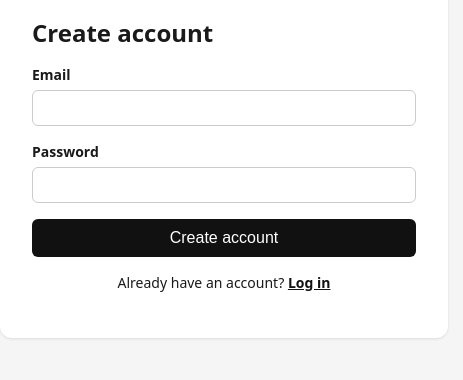
Test: RegisterPage › shows validation errors for a short password
This screenshot has width=463, height=380.
Expected: the heading "Create account" is shown, [32,16,213,49]
Type "user@example.com" into the field labelled "Email" at (224, 108), box [32,90,416,126]
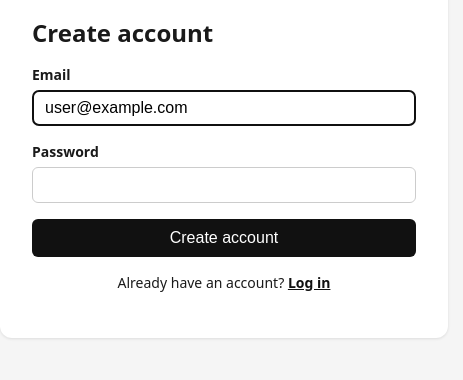
Type "short" into the password field labelled "Password" at (224, 185), box [32,167,416,203]
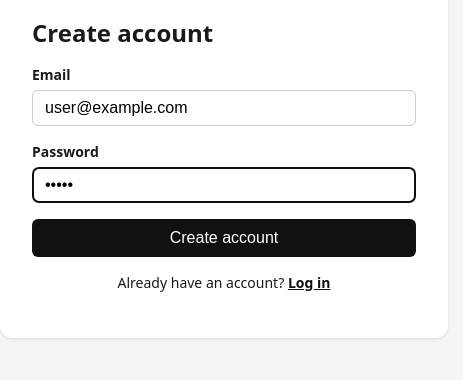
Click the button "Create account" at (224, 238), box [32,219,416,257]
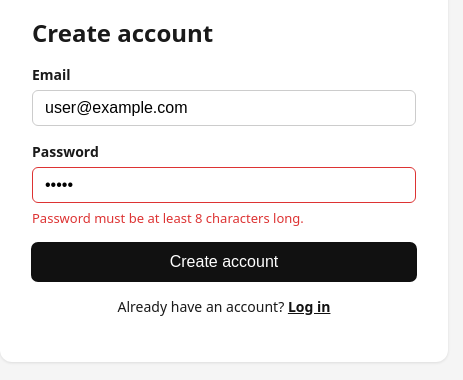
Expected: the text "Password must be at least 8 characters long." is shown, [32,209,304,227]
